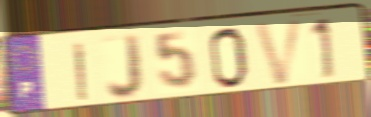0: (207, 25, 250, 90)
1: (308, 16, 337, 80)
5: (151, 29, 201, 95)
I: (71, 39, 89, 103)
J: (105, 33, 145, 102)
V: (251, 16, 307, 87)
